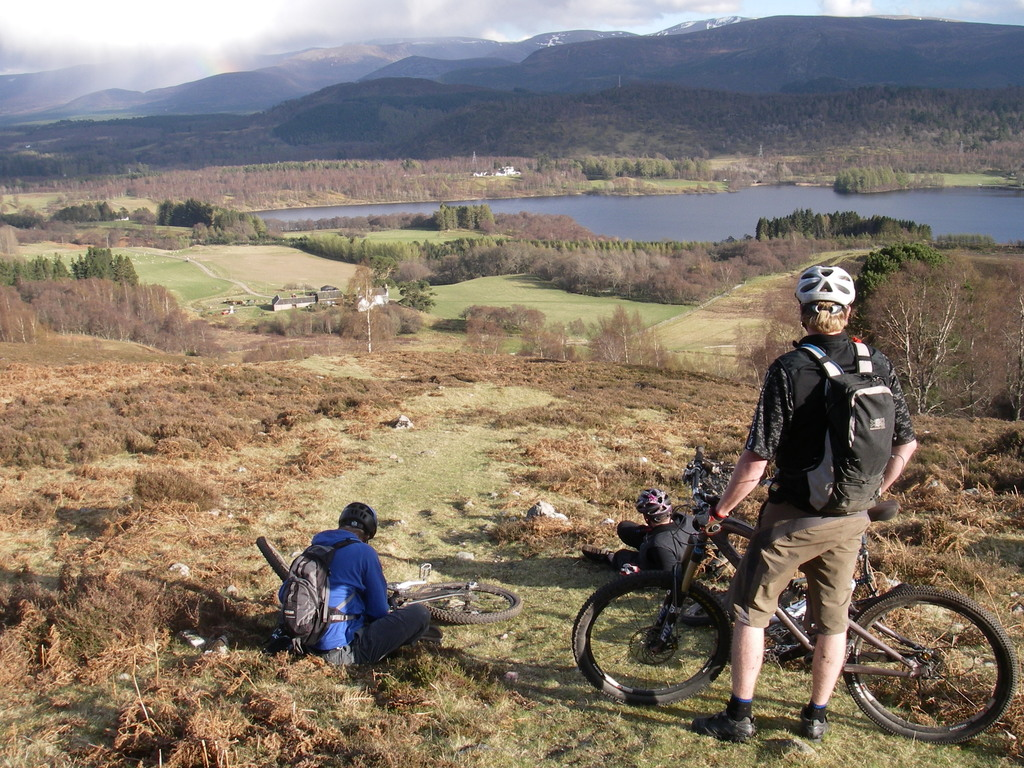Bike_away: (527, 487, 1005, 746)
